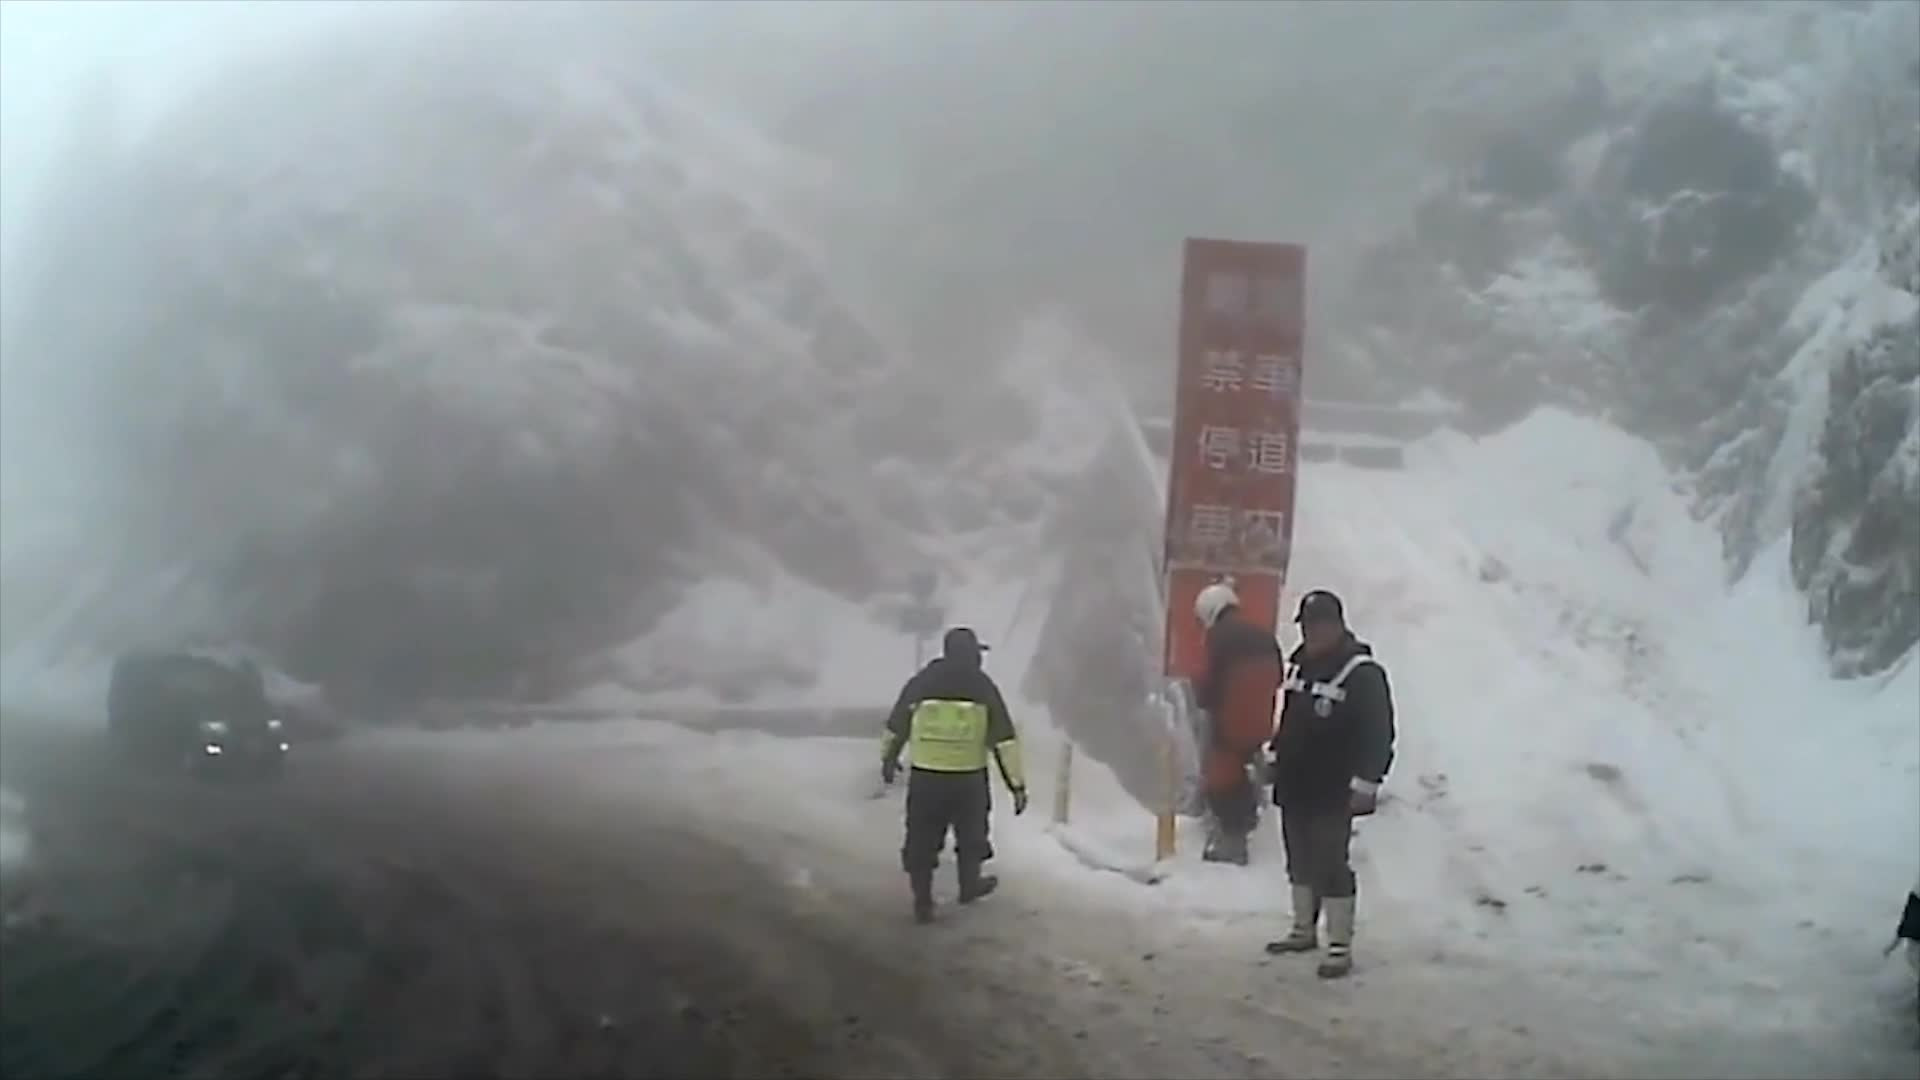pedestrian: (1260, 589, 1388, 986), (874, 624, 1032, 921), (1172, 590, 1283, 848)
vehicle: (106, 647, 289, 781)
